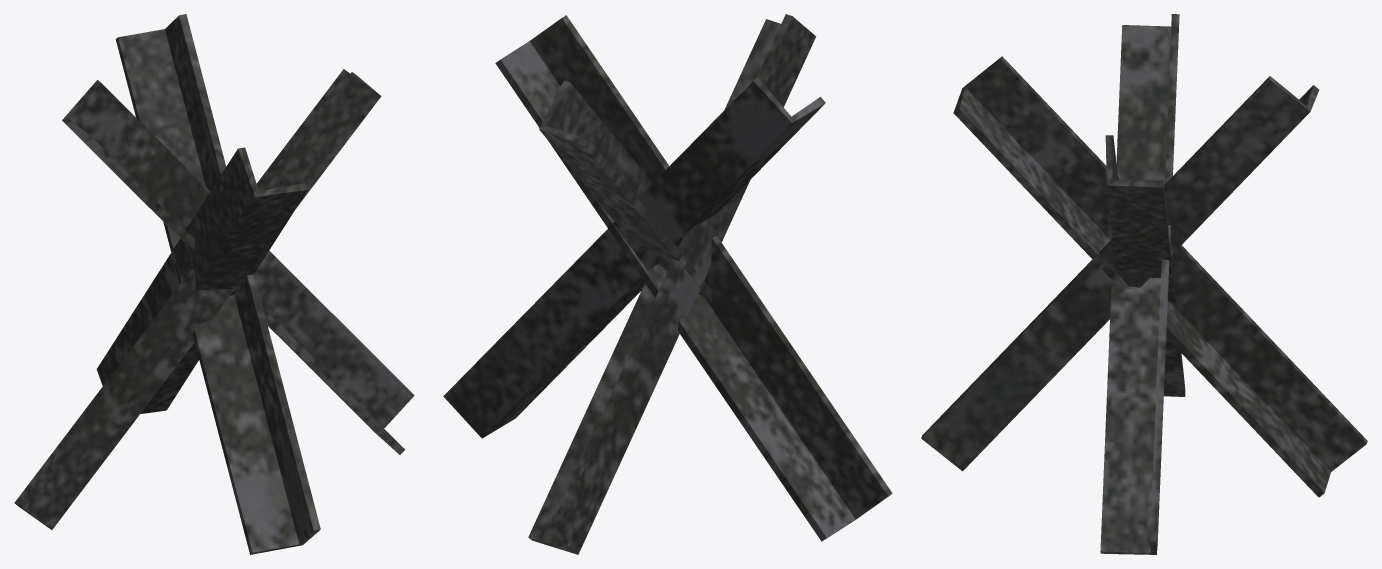
File: hierroantitanque.fbx
3 renders of one model, left to right at view 1: azimuth 30°, elevation 25°; view 2: azimuth 150°, elevation 25°; view 3: azimuth 270°, elevation 25°, orthographic. The views are drawn at different scales.
Visible parts, largest first — view 1: Object112; view 2: Object112; view 3: Object112.
Boxes of the visible parts, bbox=[...] form: Object112: bbox=[14, 14, 414, 554]; Object112: bbox=[443, 14, 892, 554]; Object112: bbox=[921, 14, 1367, 554].
Bounding box in the file's own units: 89.19 × 86.88 × 84.46.
